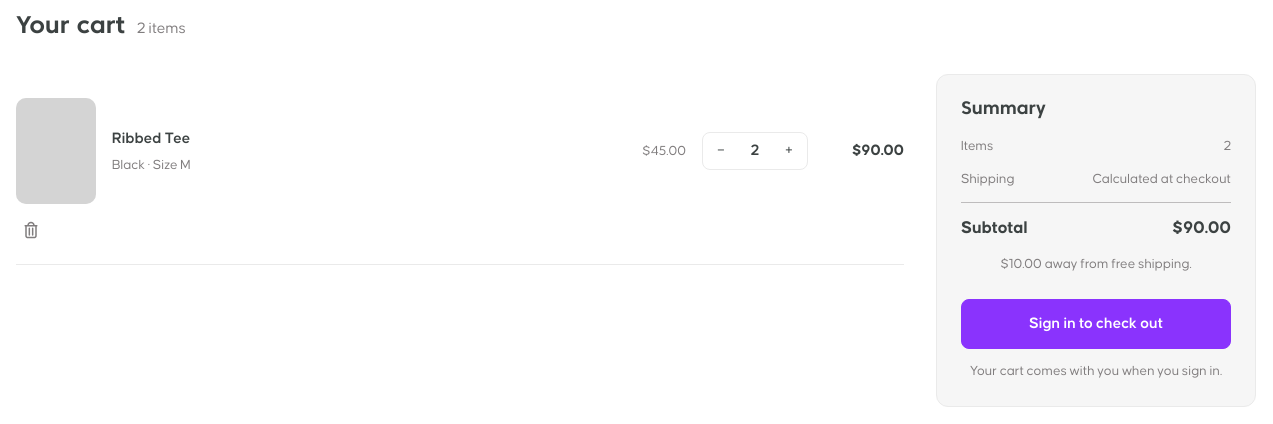
Test case: Cart page › with a guest cart › changes quantity in place
Click the button named "Increase quantity of Ribbed Tee" at (789, 151), box [771, 133, 807, 169]
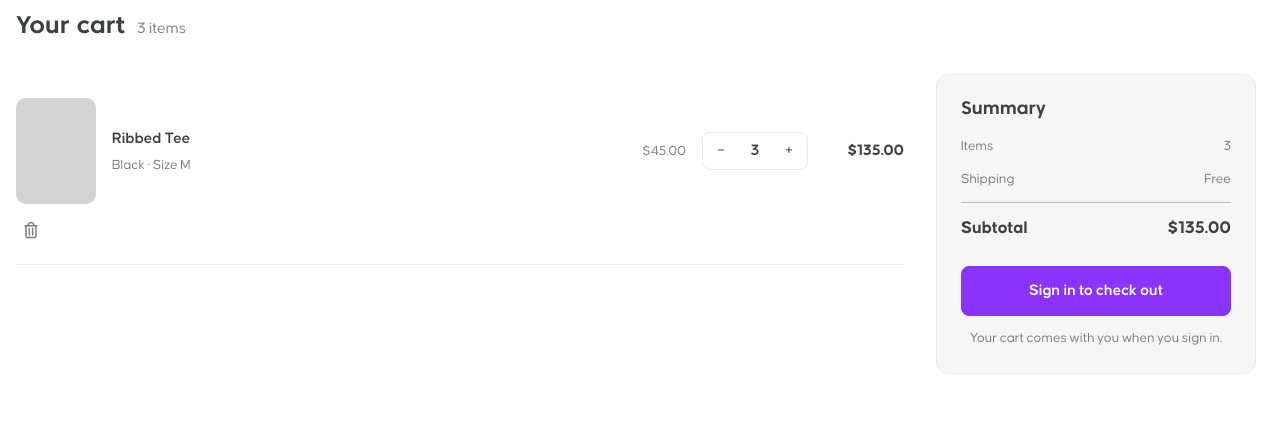
Expected: the text "$135.00" is shown 2 times, [847, 143, 904, 159]; [1167, 215, 1231, 242]
Now the text "3 items" is shown, box [137, 17, 186, 41]
